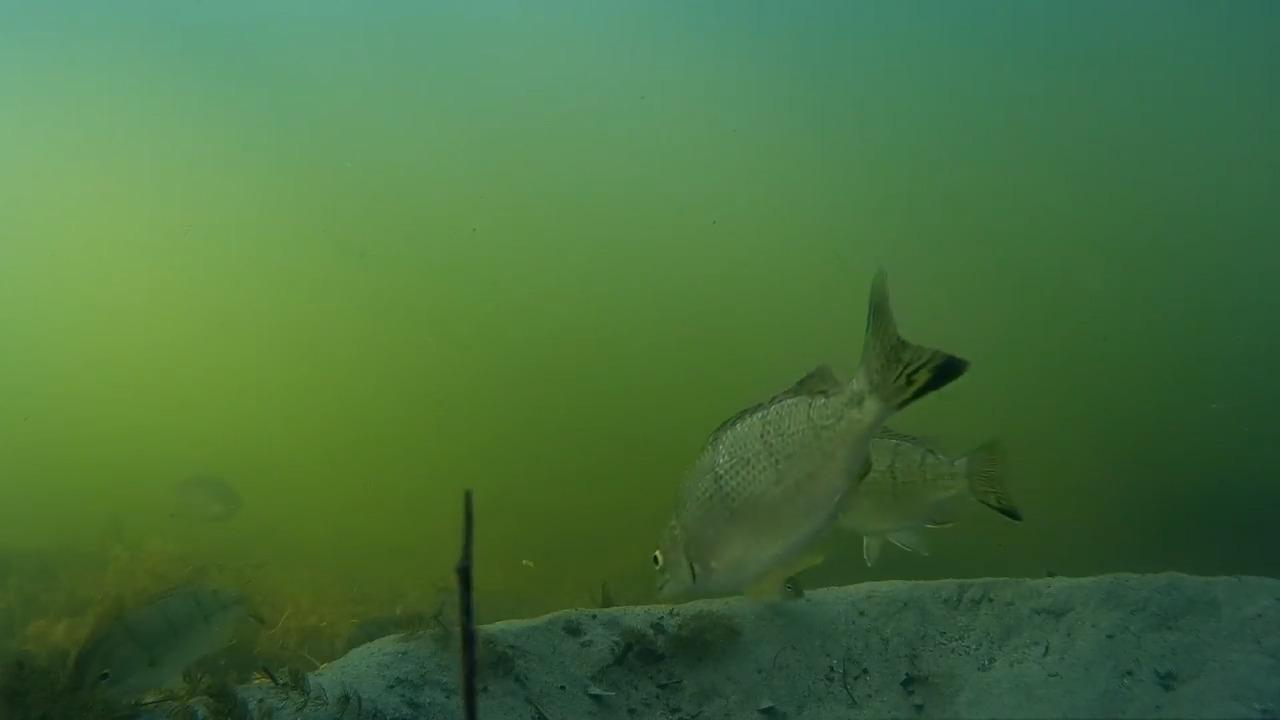Tilapia: (581, 257, 974, 605), (780, 424, 1035, 580), (73, 554, 263, 716), (161, 454, 260, 536)
